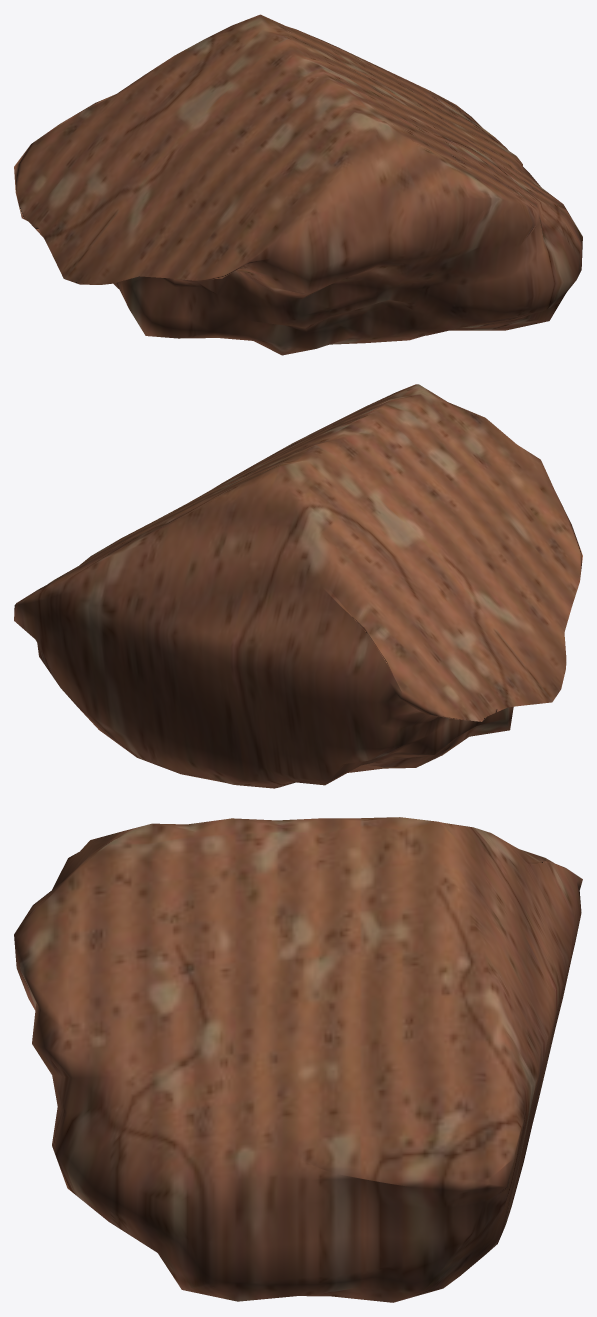
File: rock-redstone-0.lite.glb
3 renders of one model, top to bottom at view 1: azimuth 30°, elevation 25°; view 2: azimuth 150°, elevation 25°; view 3: azimuth 270°, elevation 25°, orthographic. The views are drawn at different scales.
Parts seen in each view (by area): view 1: model; view 2: model; view 3: model.
Part boxes in pixels (x1,y1,x2,y2): model: [14, 14, 582, 355]; model: [14, 384, 582, 788]; model: [14, 817, 582, 1302].
Size of the model in its own units: 1 by 0.6414 by 0.8527.
1 material, 1 textured.
